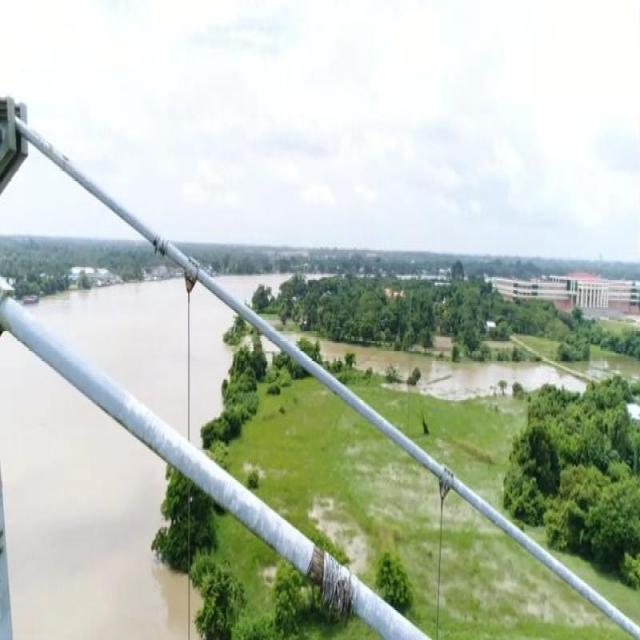corrosion: (305, 546, 358, 630), (153, 232, 169, 258), (184, 273, 194, 295), (438, 478, 448, 498)
